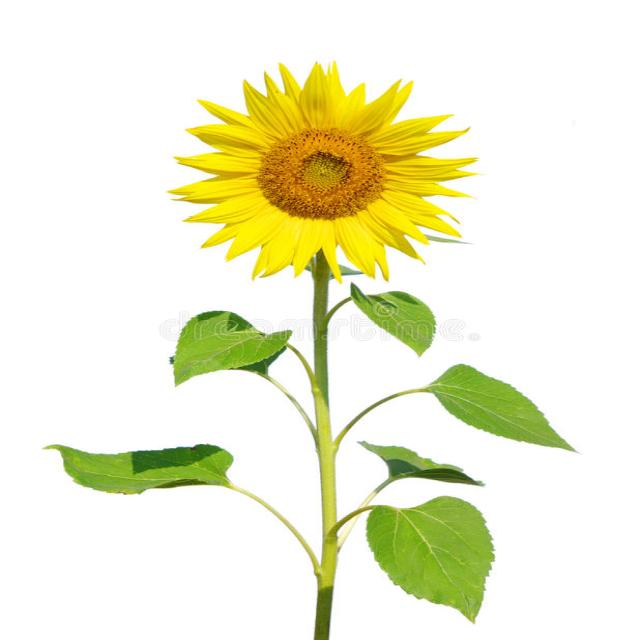sunflower: (135, 55, 503, 285)
